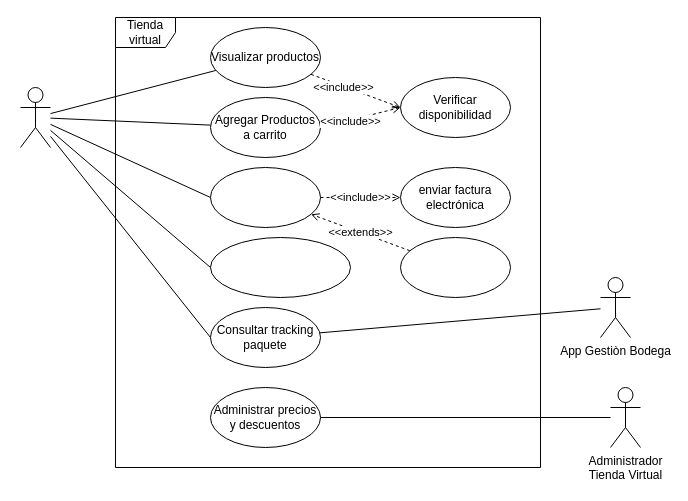
This 688x501 diagram has some shape labels left out. Each missing label, with the centre of its shape:
"Cliente" goes at point (35, 117).
"Consultar comprar realizadas" goes at point (280, 267).
"procesar cupón descuento" goes at point (455, 267).
"Realizar pago" goes at point (265, 197).
